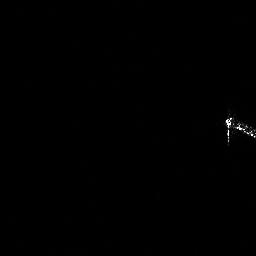ship: (224, 110, 256, 146)
